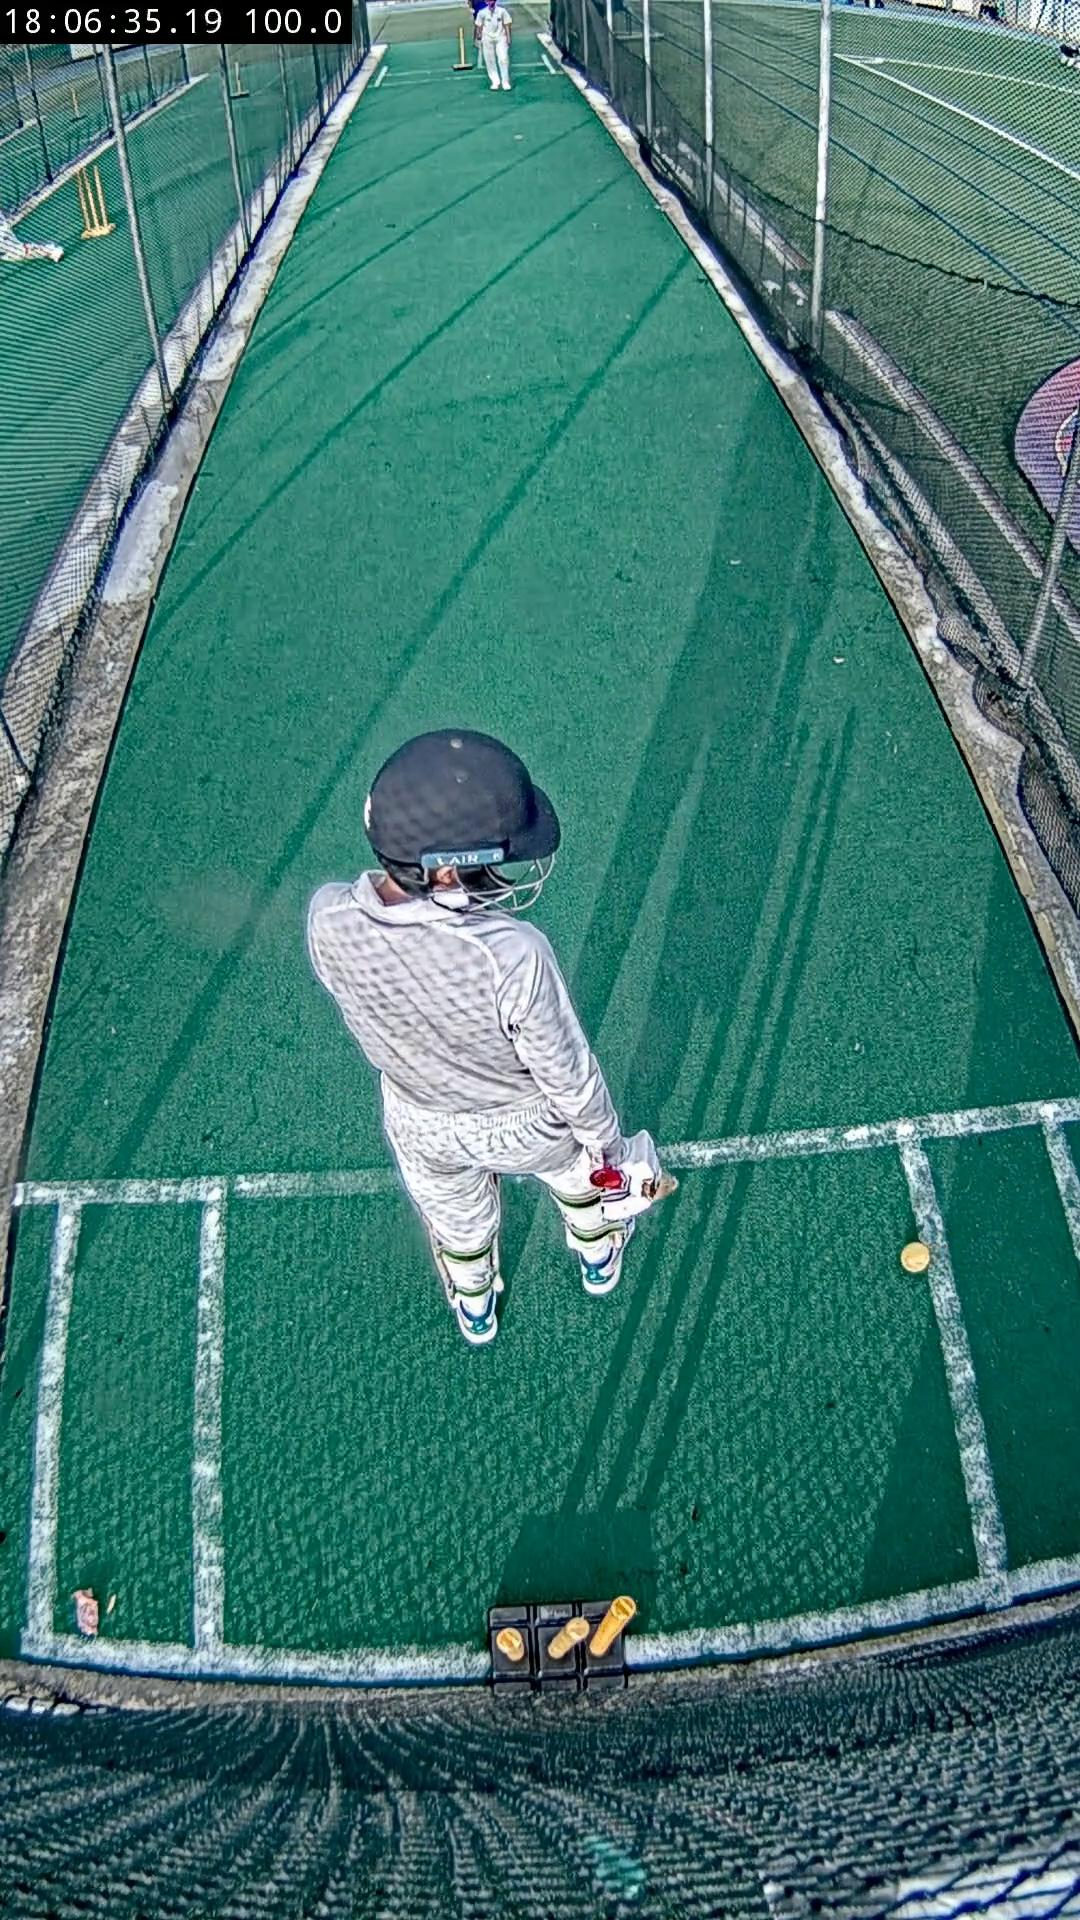ball: (899, 1241, 930, 1275)
gloves: (604, 1129, 663, 1218)
helmet: (364, 728, 559, 910)
stumps: (488, 1594, 637, 1692)
